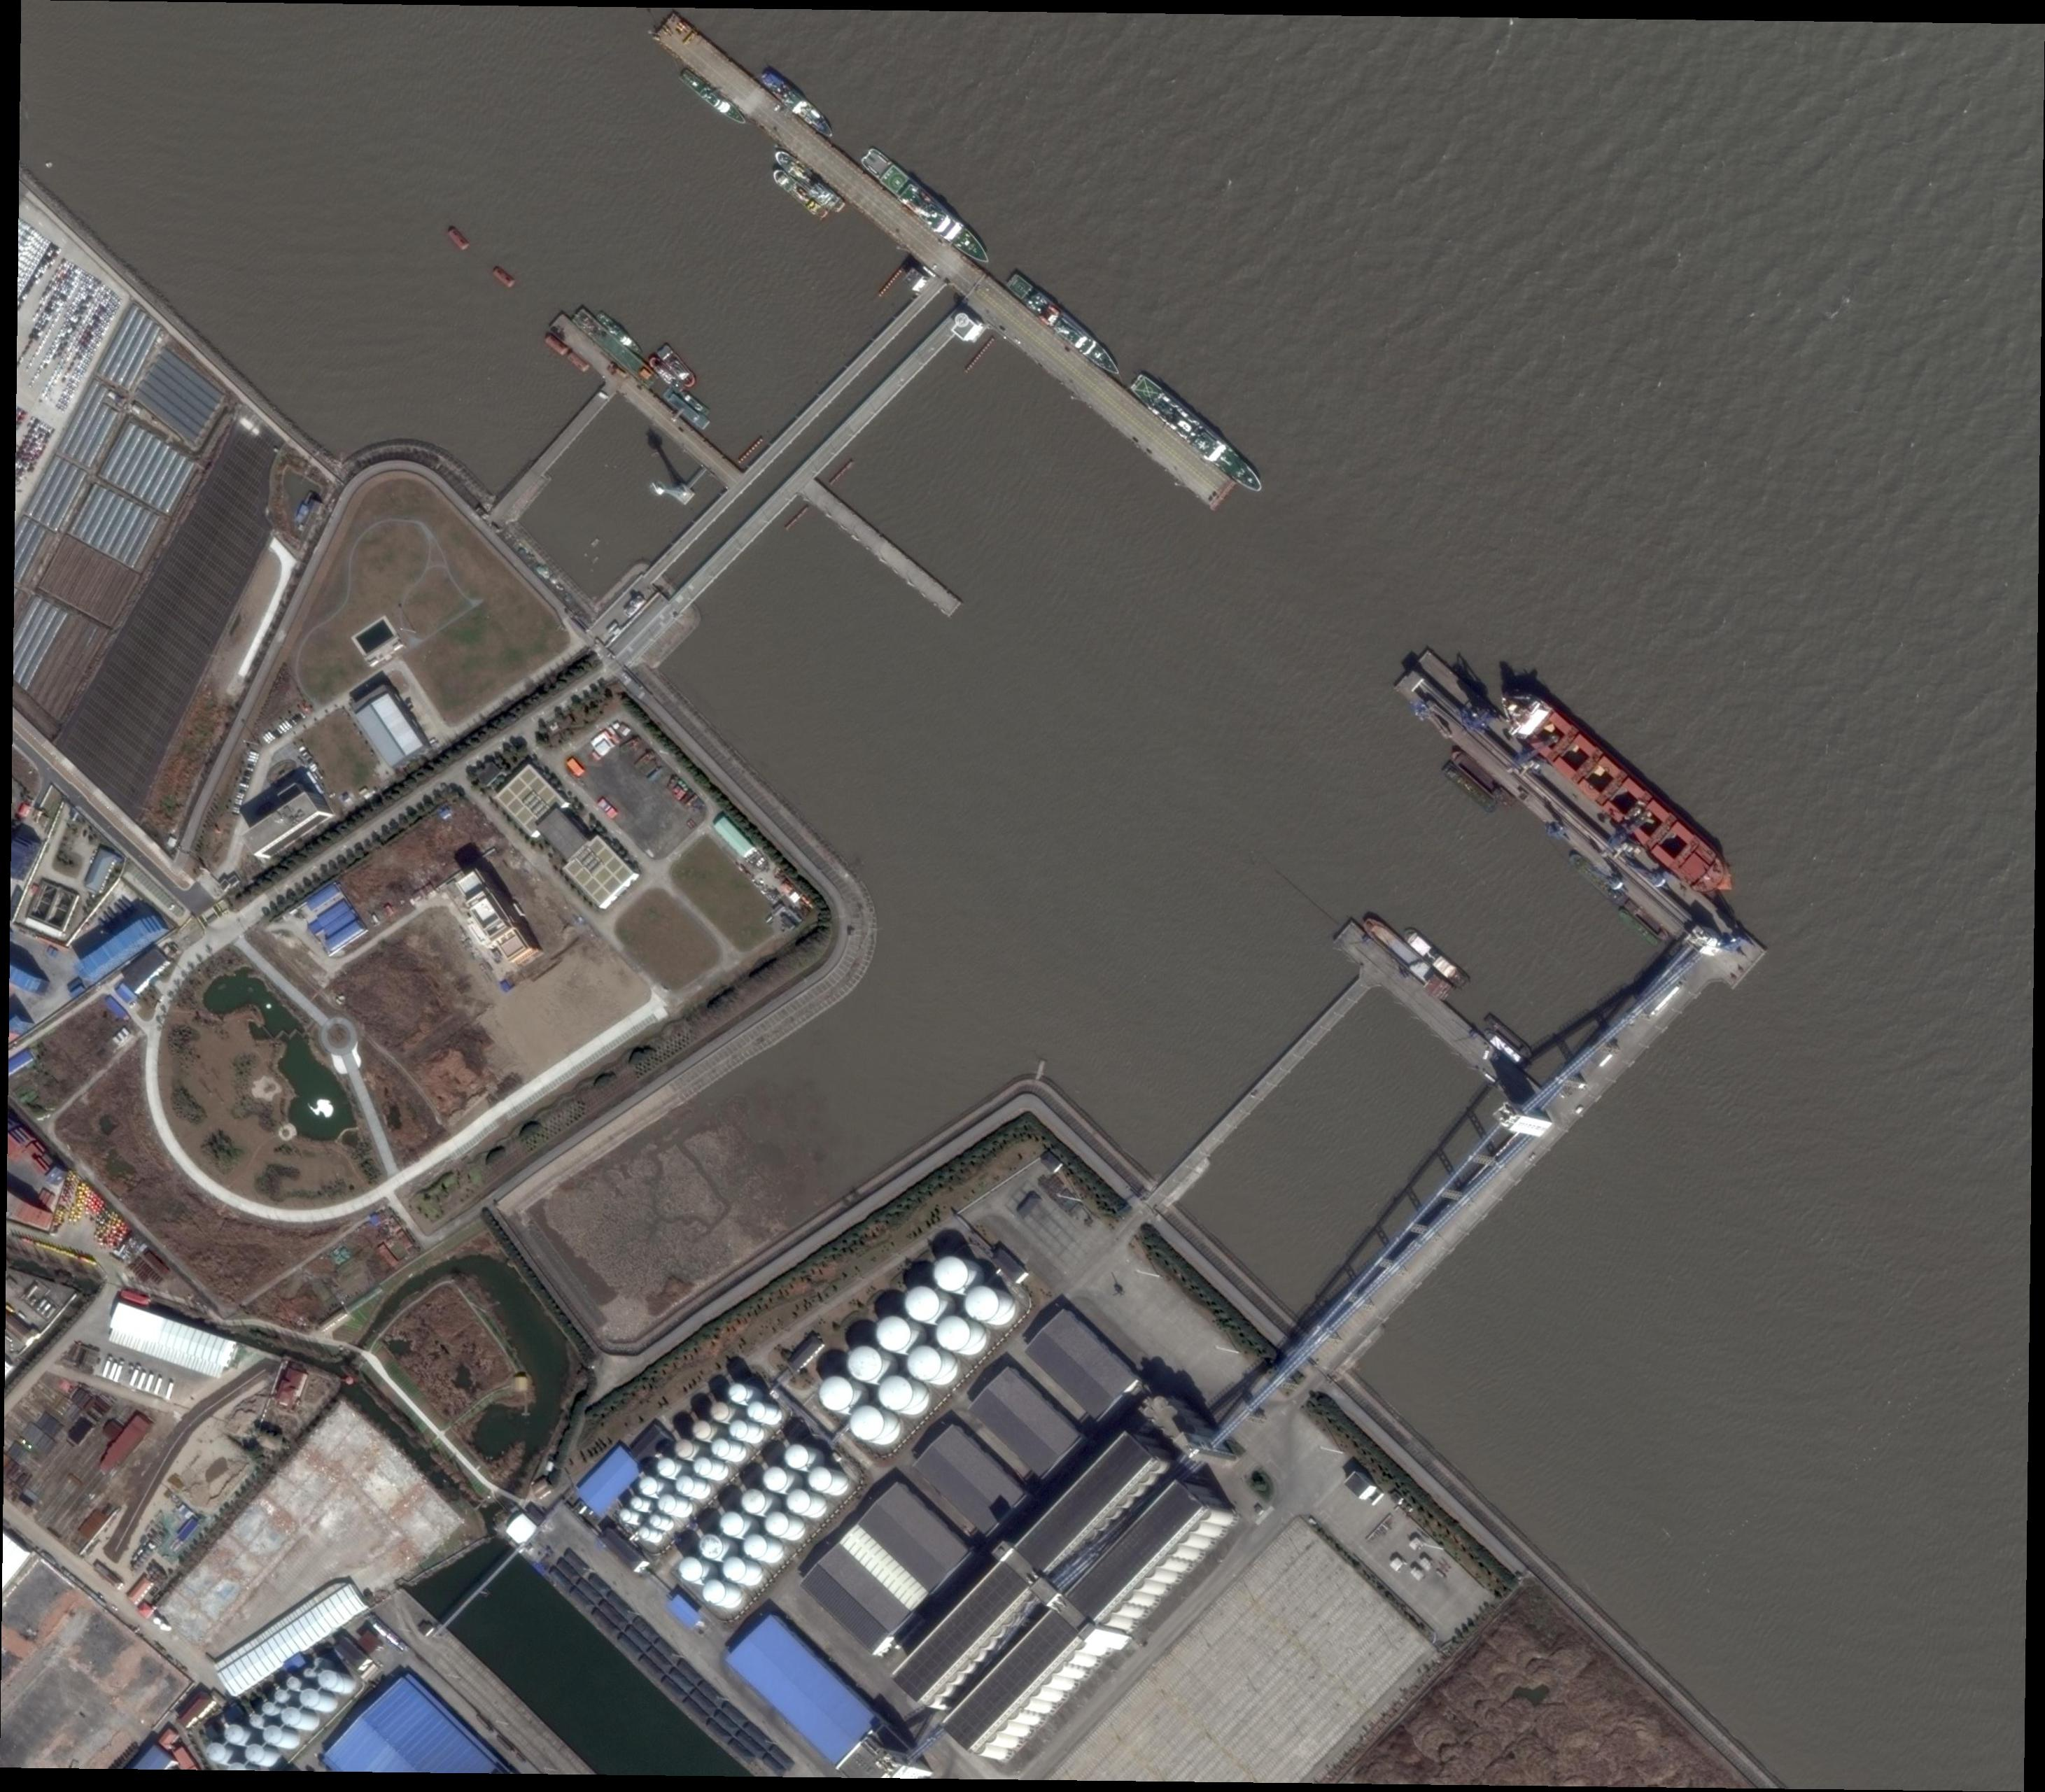harbor: (332, 10, 1238, 881), (1019, 643, 1770, 1401), (796, 478, 963, 619)
ship: (1492, 673, 1753, 913), (1127, 372, 1273, 495), (857, 146, 998, 271), (1003, 273, 1127, 379), (1360, 913, 1457, 1005), (572, 308, 659, 391), (756, 68, 840, 144), (770, 144, 847, 216), (1402, 925, 1473, 994), (680, 68, 751, 129), (1450, 747, 1518, 810), (769, 165, 831, 222), (1567, 850, 1628, 907), (1440, 760, 1501, 815), (1485, 1013, 1535, 1060), (596, 311, 645, 356), (1624, 899, 1671, 944), (663, 388, 711, 431), (1482, 1027, 1529, 1069), (657, 344, 699, 388), (1617, 907, 1661, 947), (647, 355, 687, 393), (682, 389, 711, 417), (445, 224, 473, 252), (565, 348, 591, 377), (489, 262, 515, 290), (541, 332, 569, 356)
